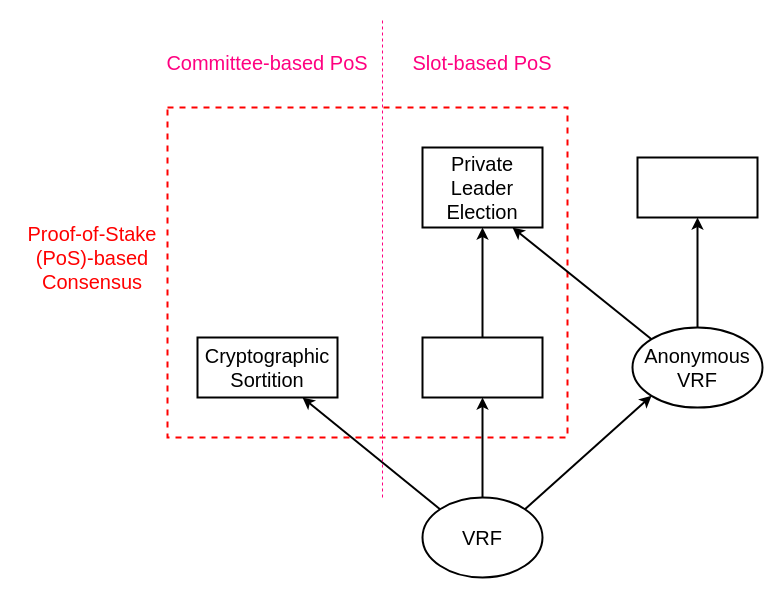
Some shapes in this 780 by 596 pixel diagram are drawn without their labels. Here are the shapes that lost their labels. From the top down, the centre of each, then its label:
At point (697, 187): "Approval Voting".
At point (482, 367): "Leader Election".
